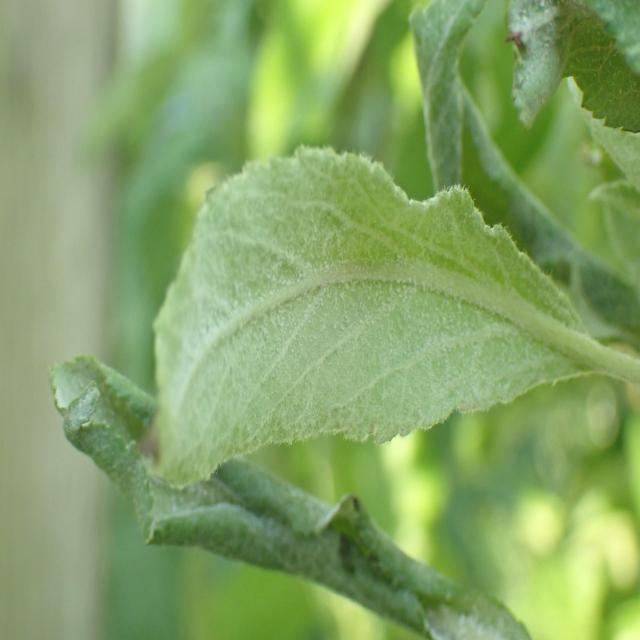Powdery_mildew: (91, 140, 610, 491), (51, 351, 596, 640), (405, 0, 640, 337), (496, 0, 640, 194)
